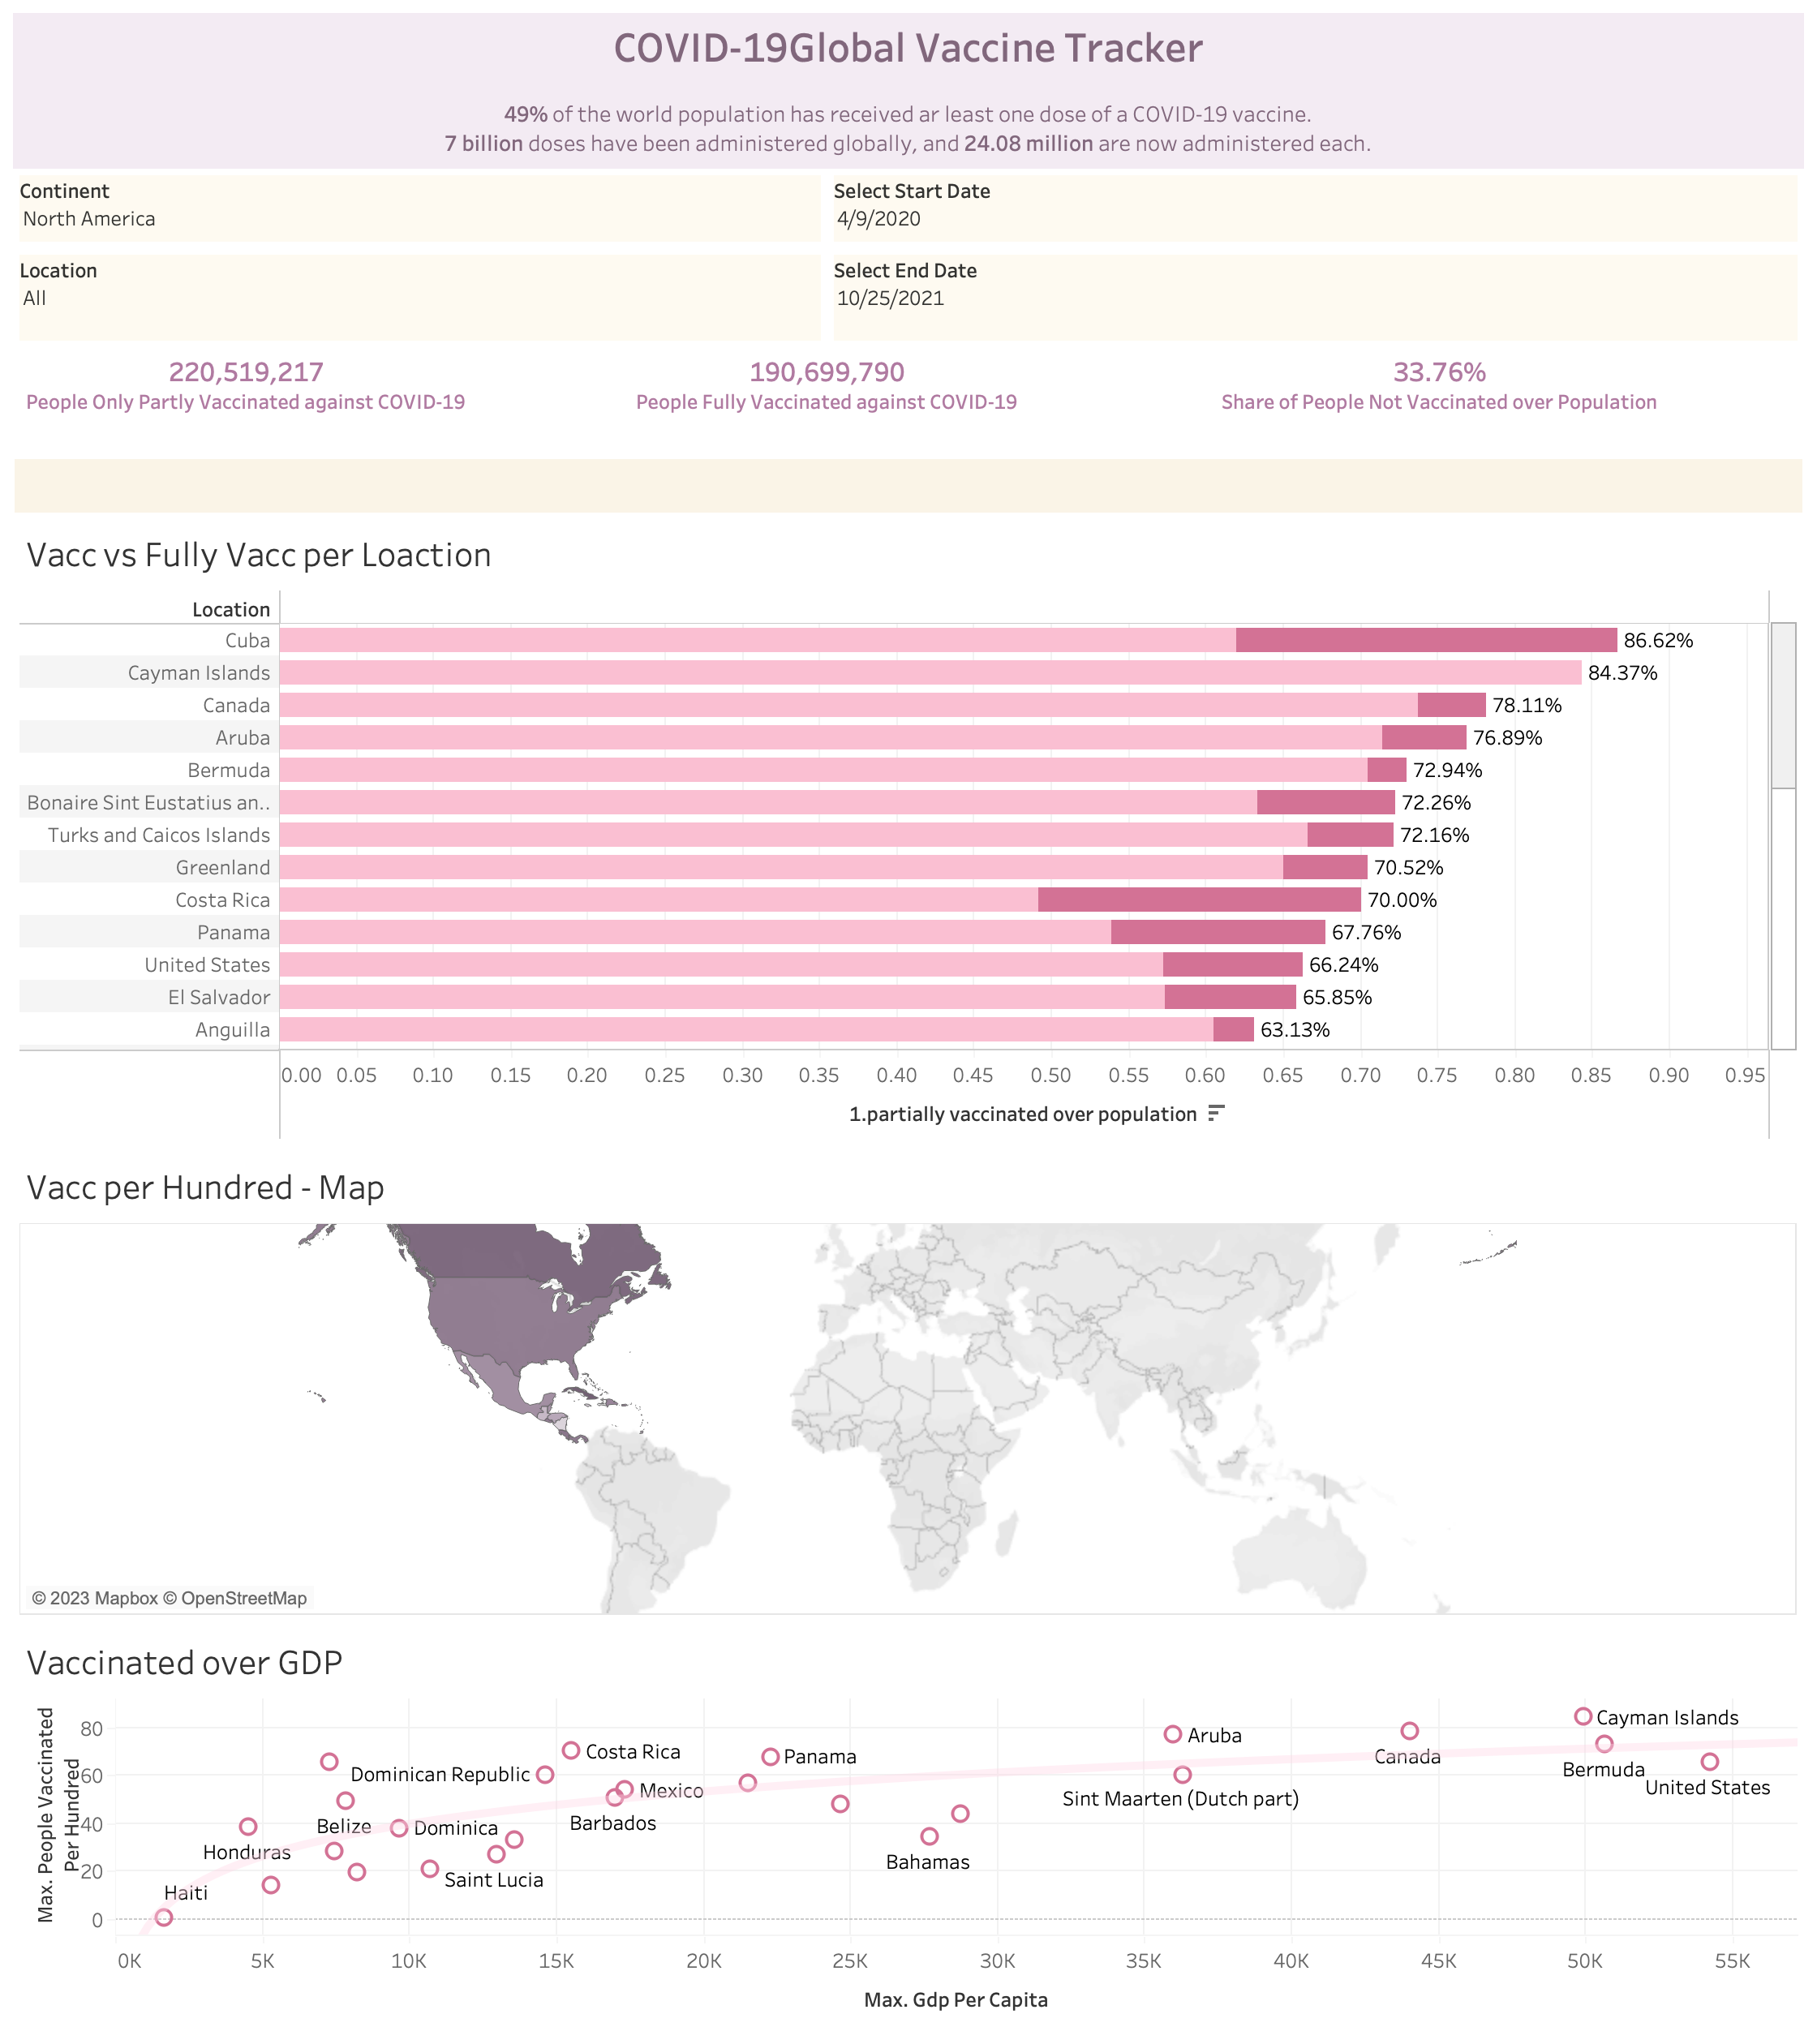

The dashboard page shown, as its layout file describes it:
{"tool":"tableau","page":{"name":"Global Vaccine Tracker","canvas":[1120,1260],"ordinal":0},"visuals":[{"type":"text","box":[8,8,1104,94]},{"type":"filter","title":"Vacc per Hundred - Map","param":"[federated.0xet6xb0q5vje013d22fe1rhdnyi].[none:Continent:nk]","box":[8,103.5,502,49.5]},{"type":"parameter","param":"[Parameters].[Parameter 1]","box":[510,103.5,602,49]},{"type":"parameter","param":"[Parameters].[Select Start Date (copy)_412923851098546181]","box":[510,152.5,602,61.5]},{"type":"filter","title":"Vacc per Hundred - Map","param":"[federated.0xet6xb0q5vje013d22fe1rhdnyi].[none:Location (copy):nk]","box":[8,153,502,61]},{"type":"worksheet","title":"1-People Partially Vaccinated","mark":"Automatic","box":[8,214,368,68]},{"type":"worksheet","title":"2-People Fully Vaccinated","mark":"Automatic","box":[376,214,368,68]},{"type":"worksheet","title":"3-People not Vaccinated over Population","mark":"Automatic","box":[744,214,368,68]},{"type":"worksheet","title":"Vacc vs Fully Vacc per Loaction","mark":"Bar","rows":["Location"],"cols":["Calculation_412923851069882369","1.partially vaccinated over population (copy)_41292385107399"],"box":[8,317,1104,390]},{"type":"worksheet","title":"Vacc per Hundred - Map","mark":"Automatic","box":[8,707,1104,293]},{"type":"worksheet","title":"Vaccinated over GDP","mark":"Automatic","rows":["People Vaccinated Per Hundred"],"cols":["Gdp Per Capita"],"box":[8,1000,1104,252]}]}

Visuals, with their boxes in screenshot pixels (x1, y1, x2, y2), scaled from the page's 1120x1260 canvas onto the 1817x2044 screenshot:
text: crop(13, 13, 1804, 165)
"Vacc per Hundred - Map" filter: crop(13, 168, 827, 248)
parameter: crop(827, 168, 1804, 247)
parameter: crop(827, 247, 1804, 347)
"Vacc per Hundred - Map" filter: crop(13, 248, 827, 347)
"1-People Partially Vaccinated" worksheet: crop(13, 347, 610, 457)
"2-People Fully Vaccinated" worksheet: crop(610, 347, 1207, 457)
"3-People not Vaccinated over Population" worksheet: crop(1207, 347, 1804, 457)
"Vacc vs Fully Vacc per Loaction" worksheet (Bar marks): crop(13, 514, 1804, 1147)
"Vacc per Hundred - Map" worksheet: crop(13, 1147, 1804, 1622)
"Vaccinated over GDP" worksheet: crop(13, 1622, 1804, 2031)
